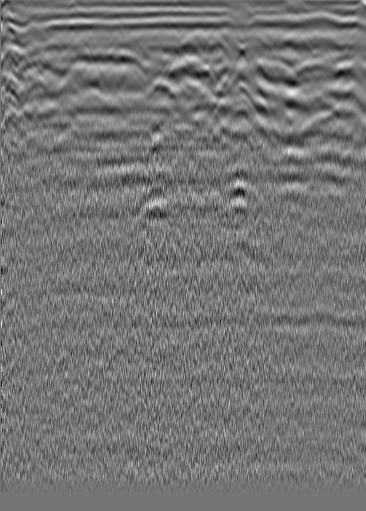가스: (220, 180, 255, 213)
상수: (70, 47, 90, 67)
오수: (327, 32, 347, 52)
우수: (185, 29, 205, 49)
